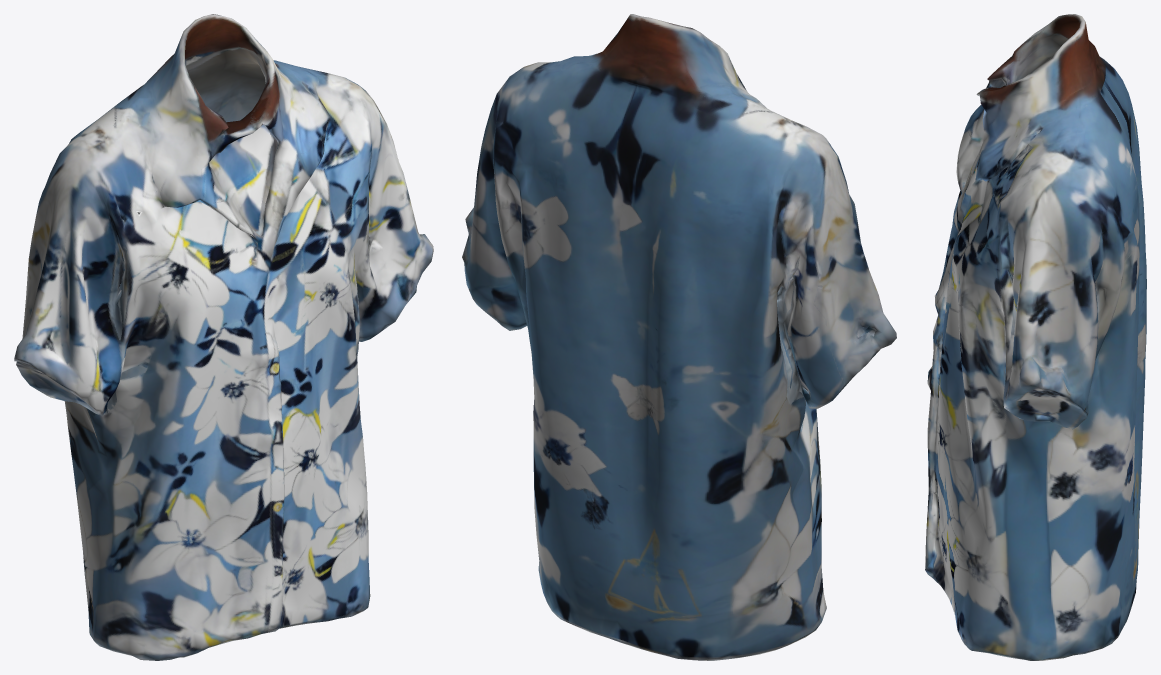
File: b8775697-05d8-431c-b59a-4d890f308762_Floral_Breeze_Shirt_1213060906_texture.glb
The picture shows the model from 3 angles, left to right: view 1: azimuth 30°, elevation 25°; view 2: azimuth 150°, elevation 25°; view 3: azimuth 270°, elevation 25°; orthographic projection. The views are drawn at different scales.
Bounding box in the file's own units: 1.49 × 2.01 × 0.6846.
Materials: 1 (1 with a texture image).
